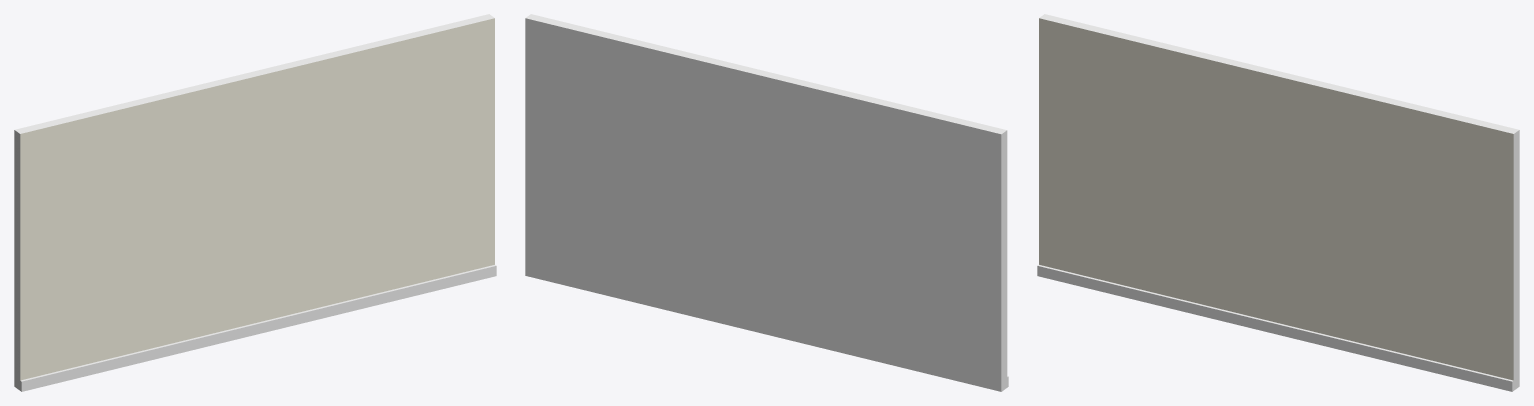
File: Wall 2.FBX
The picture shows the model from 3 angles, left to right: view 1: azimuth 30°, elevation 25°; view 2: azimuth 150°, elevation 25°; view 3: azimuth 330°, elevation 25°; orthographic projection.
Parts seen in each view (by area): view 1: Wall 2; view 2: Wall 2; view 3: Wall 2.
Boxes of the visible parts, x1,y1,x2,y2 form: Wall 2: [14, 14, 496, 391]; Wall 2: [525, 14, 1008, 391]; Wall 2: [1037, 14, 1519, 391].
Bounding box in the file's own units: 427 × 221 × 11.22.
Materials: 2 (1 with a texture image).
